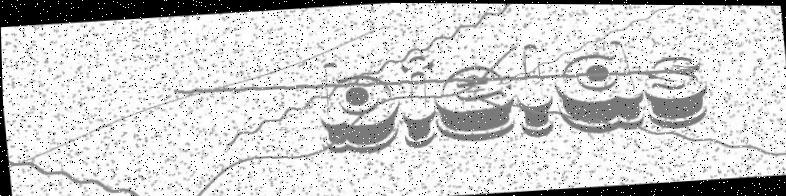b: (313, 56, 404, 157)
d: (549, 37, 647, 135)
e: (429, 62, 517, 144)
i: (396, 54, 435, 149)
l: (511, 41, 556, 138)
s: (642, 52, 709, 129)
